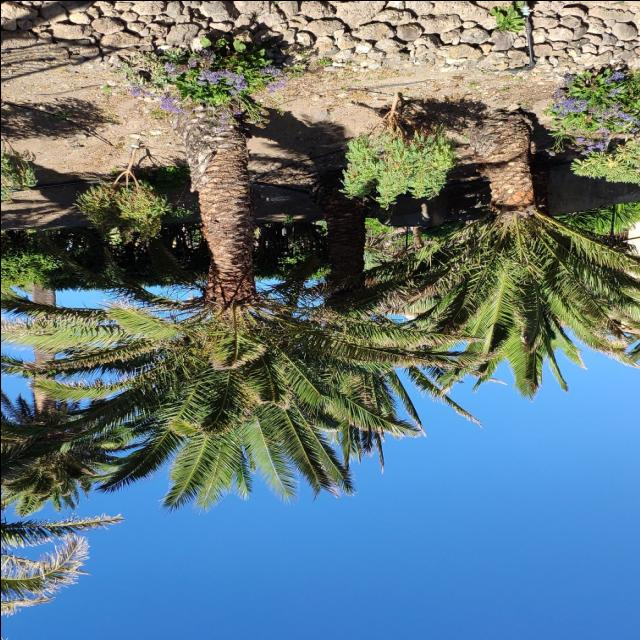Palm-Trees: (28, 95, 424, 512), (371, 107, 640, 400), (0, 283, 130, 516)
